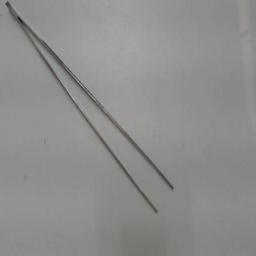DeBakey Dissector: (2, 1, 190, 217)
